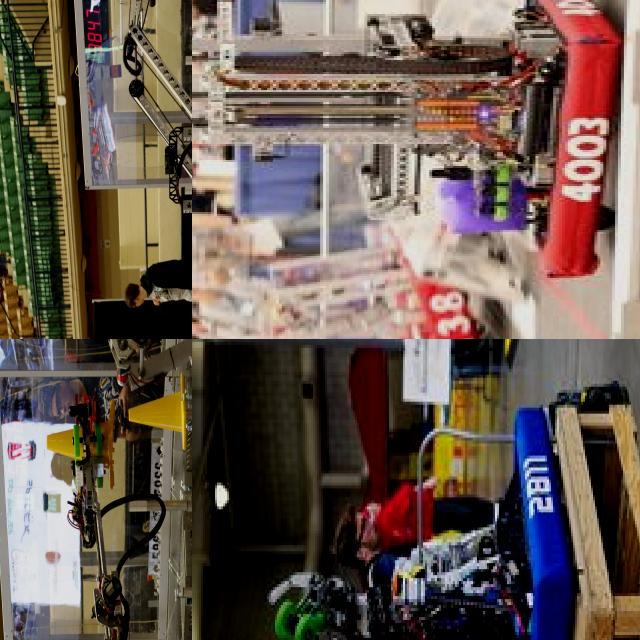FRC-Robots: (192, 0, 631, 249), (235, 387, 573, 640), (104, 0, 192, 336), (192, 274, 491, 339), (104, 460, 192, 640)
